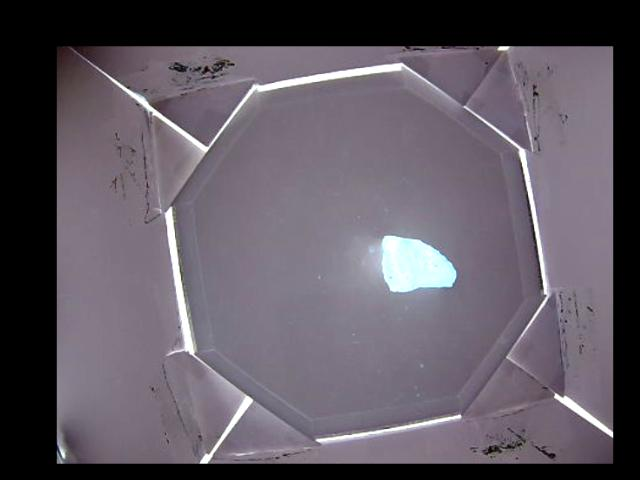Brisk: (381, 235, 459, 292)
